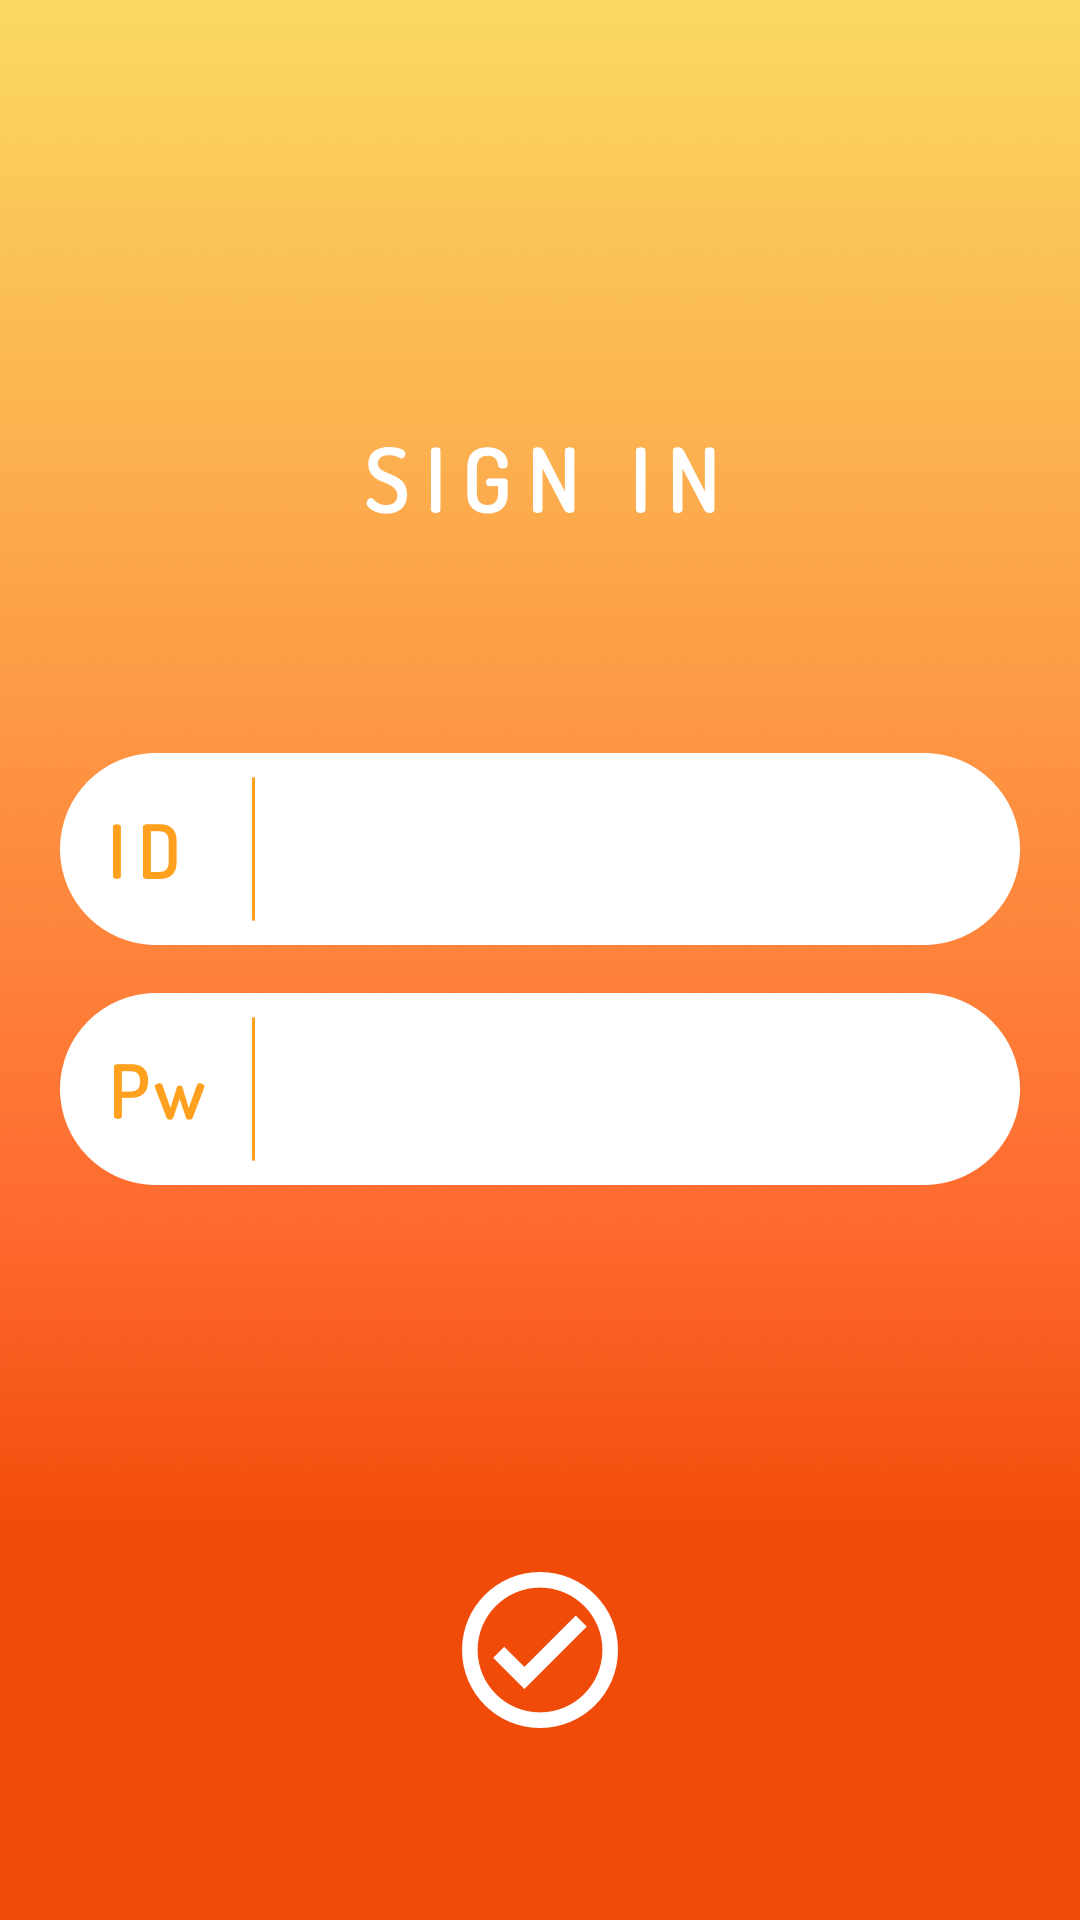

Icon click points for this 1080px x 1920px phone screenshot, format [x,y]:
sign check: [540,1650]
